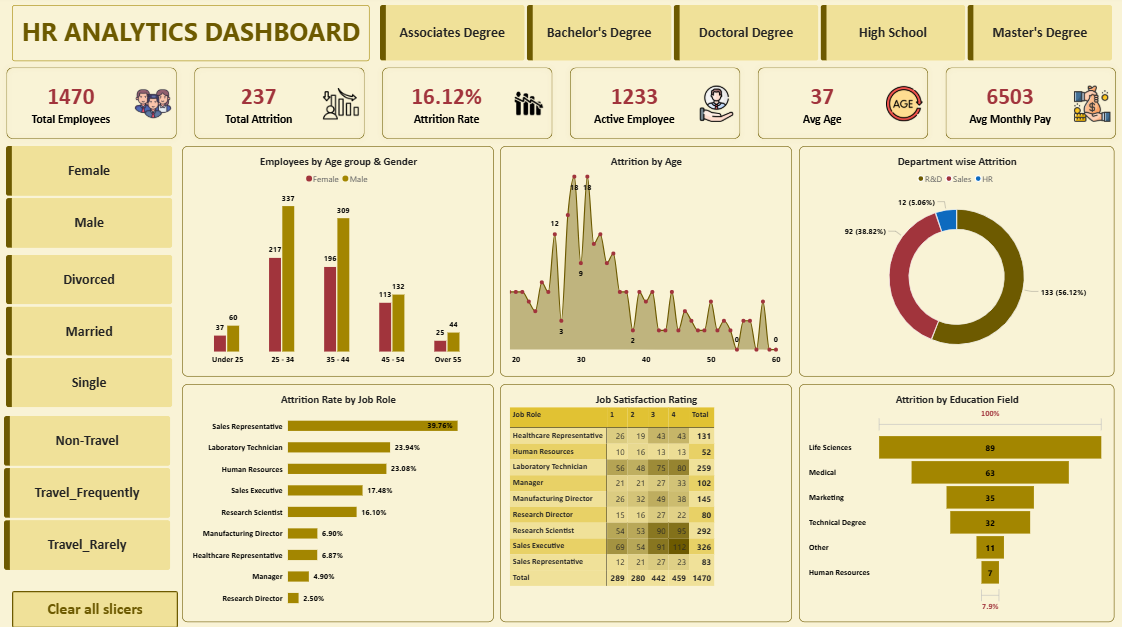

The page's visual inventory and layout, read from the dashboard file:
{"tool":"powerbi","page":{"name":"Dashboard","canvas":[1920,1080],"ordinal":0},"visuals":[{"type":"cardVisual","fields":{"Data":["HR data.Total Employees","HR data.Total Attrition","HR data.Attrition Rate","HR data.Active Employee","Avg(HR data.Age)","Avg(HR data.Monthly Income)"]},"box":[0,111.4,1920,144.3],"z":0},{"type":"clusteredColumnChart","title":"Employees by Age group & Gender","fields":{"Category":["HR data.Age Group"],"Series":["HR data.Gender"],"Y":["HR data.Total Employees"]},"box":[311.4,255.7,532.9,394.3],"z":1000},{"type":"areaChart","title":"Attrition by Age","fields":{"Category":["HR data.Age"],"Y":["HR data.Total Attrition"]},"box":[854.3,255.7,498.6,394.3],"z":2000},{"type":"donutChart","title":"Department wise Attrition","fields":{"Category":["HR data.Department"],"Y":["HR data.Total Attrition"]},"box":[1365.7,255.7,538.6,394.3],"z":3000},{"type":"clusteredBarChart","fields":{"Category":["HR data.Job Role"],"Y":["HR data.Attrition Rate"]},"box":[311.4,663.3,532.9,407.1],"z":4000},{"type":"pivotTable","title":"Job Satisfaction Rating","fields":{"Columns":["HR data.Job Satisfaction"],"Rows":["HR data.Job Role"],"Values":["HR data.Total Employees"]},"box":[854.3,663.3,498.6,407.1],"z":5000},{"type":"funnel","title":"Attrition by Education Field","fields":{"Category":["HR data.Education Field"],"Y":["HR data.Total Attrition"]},"box":[1365.7,663.3,538.6,407.1],"z":6000},{"type":"advancedSlicerVisual","fields":{"Values":["HR data.Gender"]},"box":[10,255.7,284.3,174.3],"z":7000},{"type":"advancedSlicerVisual","fields":{"Values":["HR data.Marital Status"]},"box":[10,442.9,284.3,262.9],"z":8000},{"type":"advancedSlicerVisual","fields":{"Values":["HR data.Business Travel"]},"box":[7.1,718.6,284.3,265.7],"z":9000},{"type":"advancedSlicerVisual","fields":{"Values":["HR data.Education"]},"box":[648.6,15.7,1255.7,95.7],"z":10000},{"type":"actionButton","box":[10.3,1006.5,283.7,63.2],"z":11000},{"type":"textbox","box":[20,15.7,611.4,95.7],"z":12000}]}

Visuals, with their boxes in screenshot pixels (x1, y1, x2, y2), scaled from the page's 1920x1080 canvas onto the 1122x627 screenshot:
cardVisual - HR data.Total Employees x HR data.Total Attrition: (0, 65, 1121, 148)
"Employees by Age group & Gender" clusteredColumnChart: (182, 148, 493, 377)
"Attrition by Age" areaChart: (499, 148, 791, 377)
"Department wise Attrition" donutChart: (798, 148, 1113, 377)
clusteredBarChart - HR data.Job Role x HR data.Attrition Rate: (182, 385, 493, 621)
"Job Satisfaction Rating" pivotTable: (499, 385, 791, 621)
"Attrition by Education Field" funnel: (798, 385, 1113, 621)
advancedSlicerVisual - HR data.Gender: (6, 148, 172, 250)
advancedSlicerVisual - HR data.Marital Status: (6, 257, 172, 410)
advancedSlicerVisual - HR data.Business Travel: (4, 417, 170, 571)
advancedSlicerVisual - HR data.Education: (379, 9, 1113, 65)
actionButton: (6, 584, 172, 621)
textbox: (12, 9, 369, 65)
